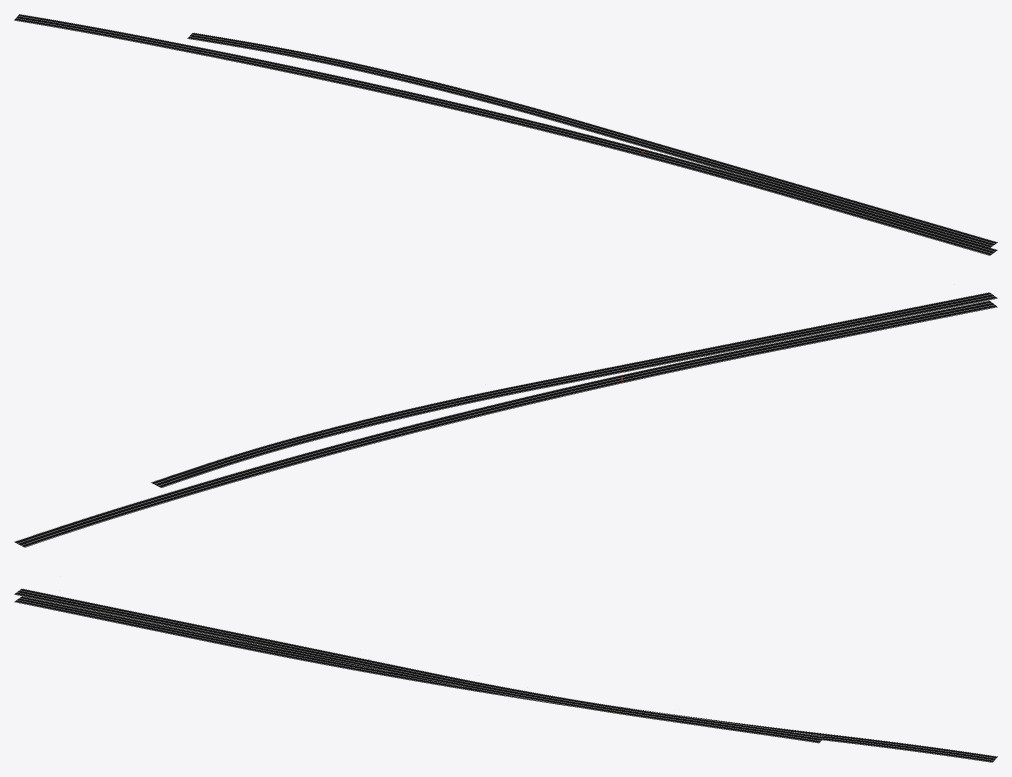
The model's file is NoLod_0.glb.
The picture shows the model from 3 angles, top to bottom: view 1: azimuth 90°, elevation 25°; view 2: azimuth 150°, elevation 25°; view 3: azimuth 270°, elevation 25°; orthographic projection. The views are drawn at different scales.
Visible parts, largest first — view 1: rtc; view 2: rtc; view 3: rtc.
Part boxes in pixels (bbox=[...]): rtc: bbox=[14, 14, 997, 255]; rtc: bbox=[14, 292, 997, 547]; rtc: bbox=[14, 588, 997, 762].
Bounding box in the file's own units: 302 × 26.65 × 616.
Materials: 5 (1 with a texture image).
